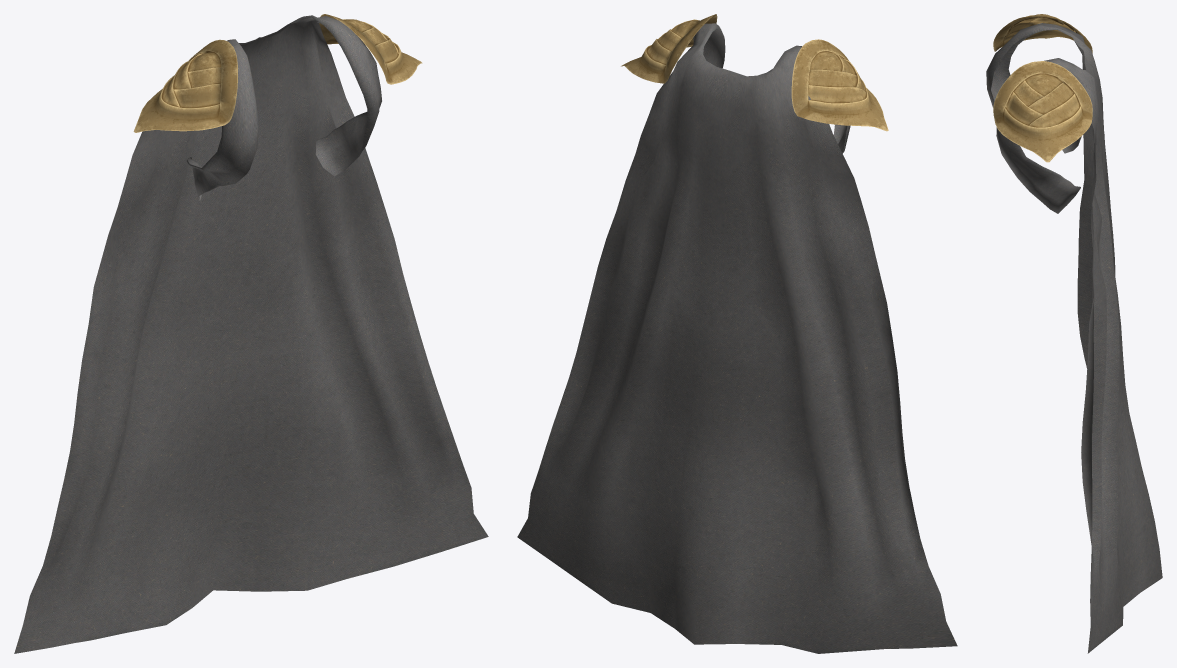
Rendered from rivendell_pauldron_tier2_cape.fbx.
3 renders of one model, left to right at view 1: azimuth 30°, elevation 25°; view 2: azimuth 150°, elevation 25°; view 3: azimuth 270°, elevation 25°, orthographic. The views are drawn at different scales.
Visible parts, largest first — view 1: rivendell_pauldron_tier2_cape.0, rivendell_pauldron_tier2_cape.1; view 2: rivendell_pauldron_tier2_cape.0, rivendell_pauldron_tier2_cape.1; view 3: rivendell_pauldron_tier2_cape.0, rivendell_pauldron_tier2_cape.1.
Part boxes in pixels (x1,y1,x2,y2): rivendell_pauldron_tier2_cape.0: (14,15,488,653); rivendell_pauldron_tier2_cape.1: (133,14,422,132); rivendell_pauldron_tier2_cape.0: (517,23,957,653); rivendell_pauldron_tier2_cape.1: (621,14,888,131); rivendell_pauldron_tier2_cape.0: (986,23,1162,653); rivendell_pauldron_tier2_cape.1: (993,14,1092,162).
Size of the model in its own units: 1.22 by 0.4447 by 1.5.
Materials: 2 (2 with a texture image).
